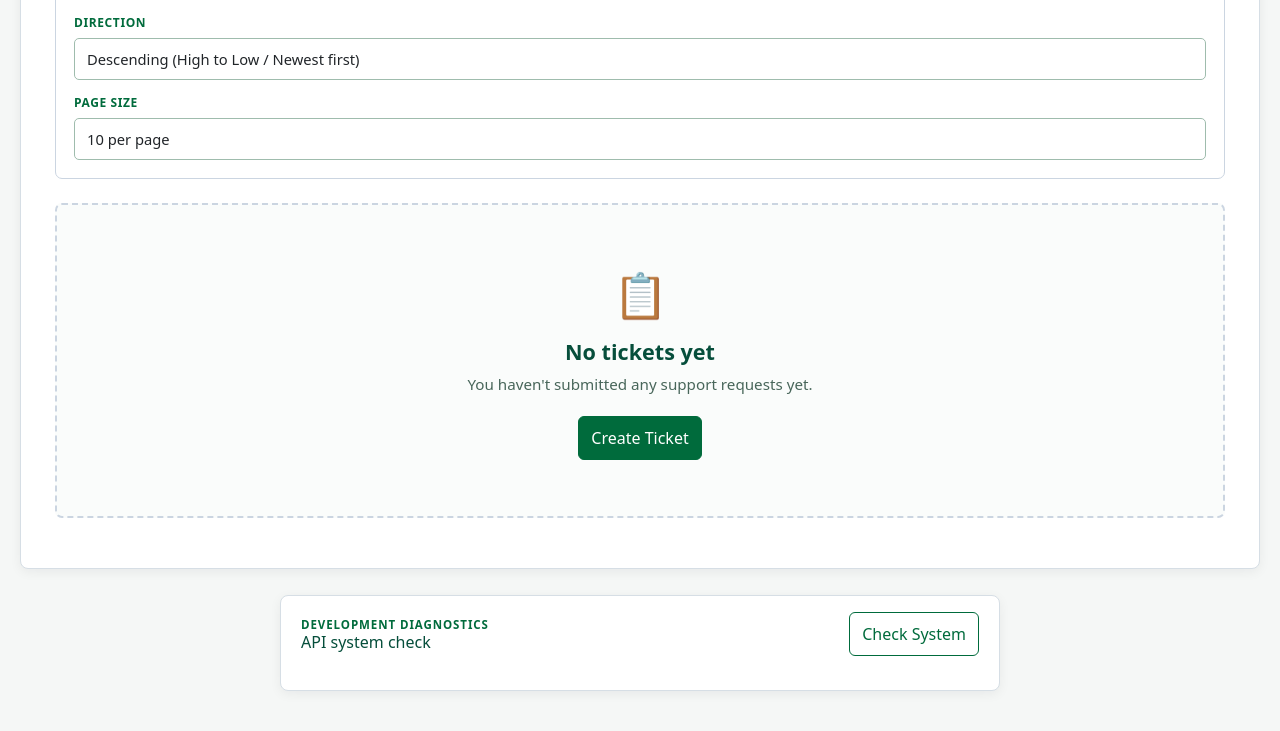
Test: App › shows Online and the seeded categories on success
(page scrolled)
Click the button "Check System": (914, 634) [849,612,979,656]
(page scrolled)
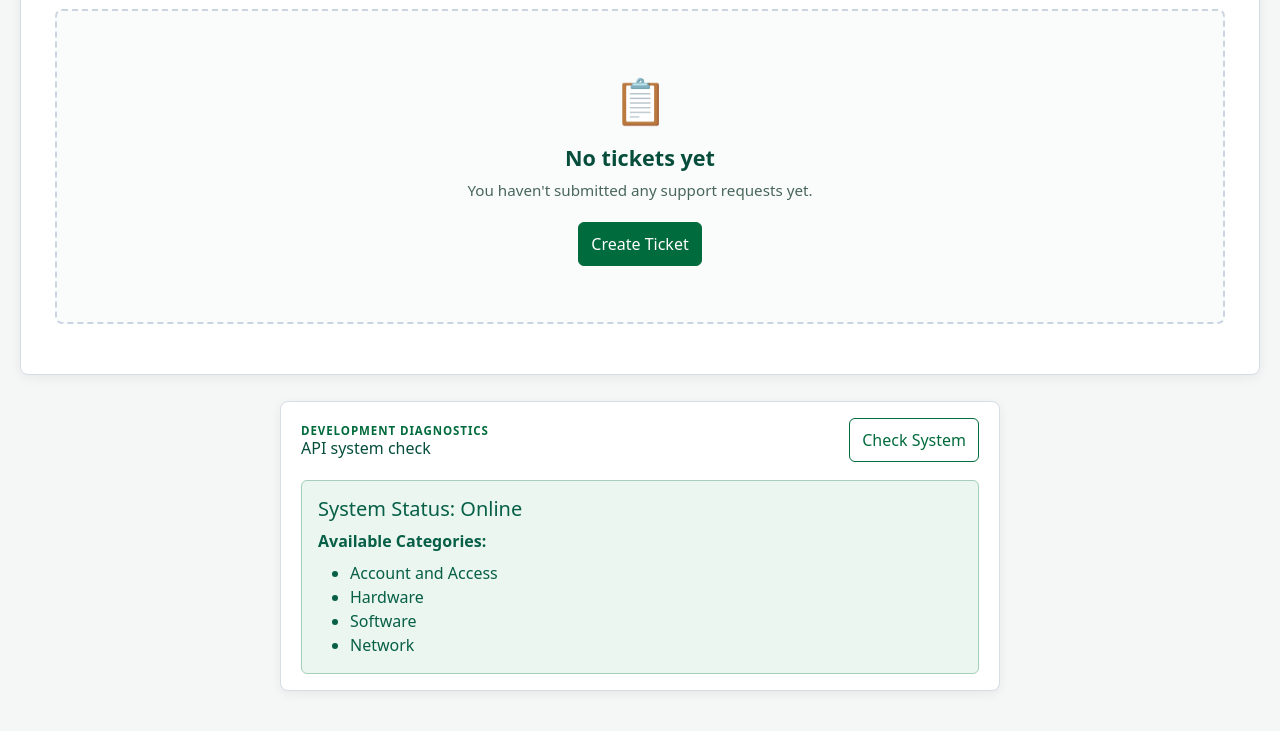
Expected: the heading "System Status: Online" is shown, [318,495,522,522]
Expected: the list item "Account and Access" is shown, [350,562,498,584]
Expected: the list item "Hardware" is shown, [350,586,424,608]
